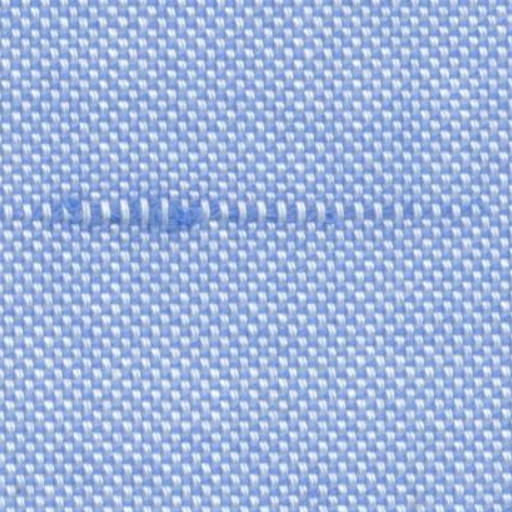DaiSha: (9, 186, 484, 235)
